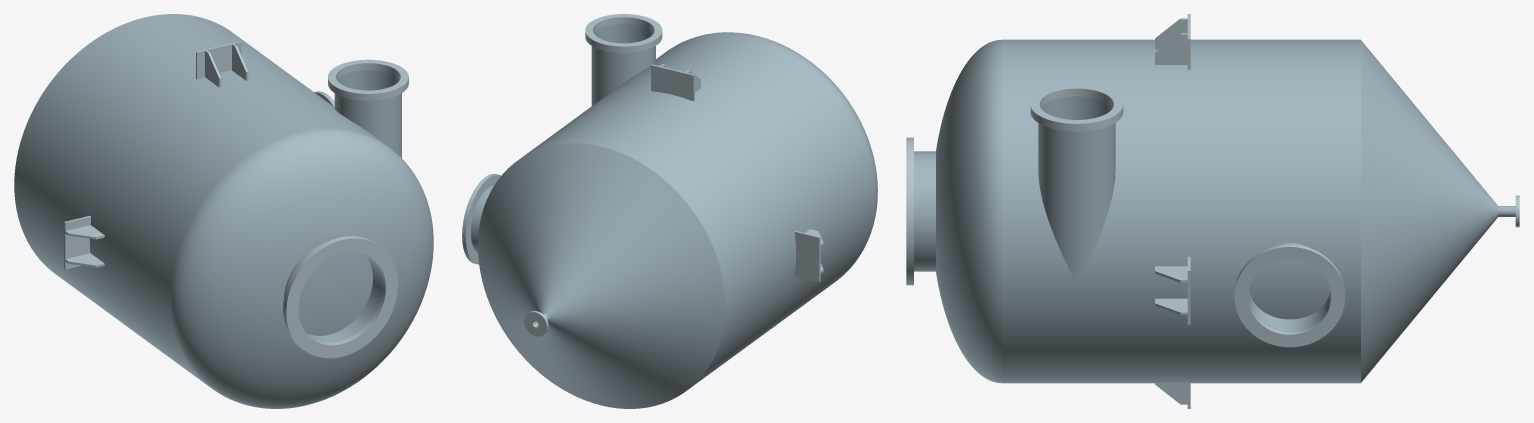
3 renders of one model, left to right at view 1: azimuth 30°, elevation 25°; view 2: azimuth 150°, elevation 25°; view 3: azimuth 270°, elevation 25°, orthographic. The views are drawn at different scales.
Visible parts, largest first — view 1: 本体_直筒, 本体_椭圆封头, 接口_顶部法兰, 接口_北侧偏东接管, 接口_北侧偏东法兰, 接口_顶部接管, 托耳_3底板, 托耳_2底板, 托耳_2筋板+1; view 2: 本体_直筒, 本体_下锥段, 接口_北侧偏东接管, 接口_北侧偏东法兰, 本体_椭圆封头, 托耳_3底板, 托耳_2底板, 接口_东侧下口法兰, 接口_东侧下口接管, 接口_锥底排口法兰; view 3: 本体_直筒, 本体_下锥段, 本体_椭圆封头, 接口_北侧偏东接管, 接口_东侧下口法兰, 接口_顶部接管, 接口_北侧偏东法兰, 接口_顶部法兰, 接口_东侧下口接管, 托耳_2筋板-1.
Part boxes in pixels (box(x1,y1,x2,y2)): 本体_直筒: box(14, 14, 383, 384); 本体_椭圆封头: box(170, 128, 433, 408); 接口_顶部法兰: box(283, 236, 397, 358); 接口_北侧偏东接管: box(334, 70, 401, 157); 接口_北侧偏东法兰: box(328, 59, 408, 100); 接口_顶部接管: box(284, 243, 382, 342); 托耳_3底板: box(64, 215, 90, 269); 托耳_2底板: box(196, 41, 241, 79); 托耳_2筋板+1: box(205, 50, 221, 87); 本体_直筒: box(522, 34, 874, 387); 本体_下锥段: box(478, 143, 725, 408); 接口_北侧偏东接管: box(591, 23, 655, 105); 接口_北侧偏东法兰: box(585, 14, 662, 52); 本体_椭圆封头: box(677, 32, 877, 269); 托耳_3底板: box(795, 231, 820, 282); 托耳_2底板: box(651, 64, 694, 101); 接口_东侧下口法兰: box(462, 174, 500, 264); 接口_东侧下口接管: box(471, 185, 494, 252); 接口_锥底排口法兰: box(524, 311, 548, 336); 本体_直筒: box(1002, 39, 1360, 383); 本体_下锥段: box(1361, 40, 1498, 382); 本体_椭圆封头: box(936, 39, 1002, 383); 接口_北侧偏东接管: box(1038, 96, 1115, 283); 接口_东侧下口法兰: box(1234, 244, 1345, 347); 接口_顶部接管: box(914, 151, 935, 271); 接口_北侧偏东法兰: box(1030, 84, 1123, 131); 接口_顶部法兰: box(906, 137, 913, 285); 接口_东侧下口接管: box(1248, 243, 1331, 332); 托耳_2筋板-1: box(1155, 33, 1187, 64).
Size of the model in its own units: 2.14 by 2.14 by 3.21.
